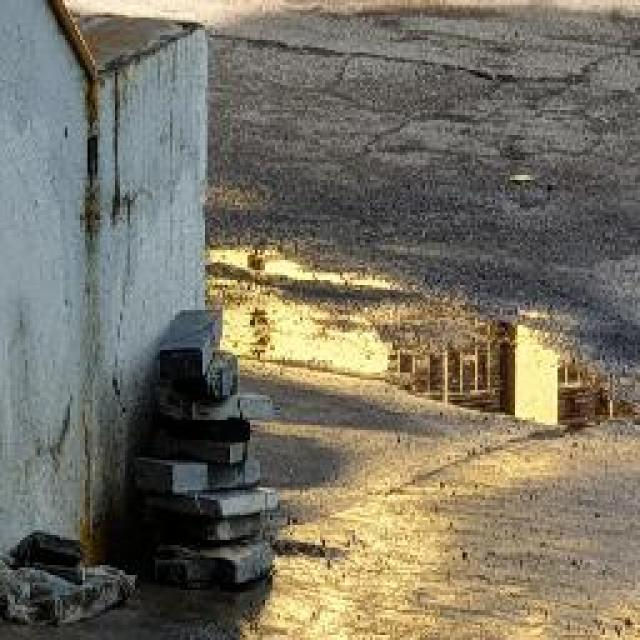stagnation: (273, 244, 640, 421)
